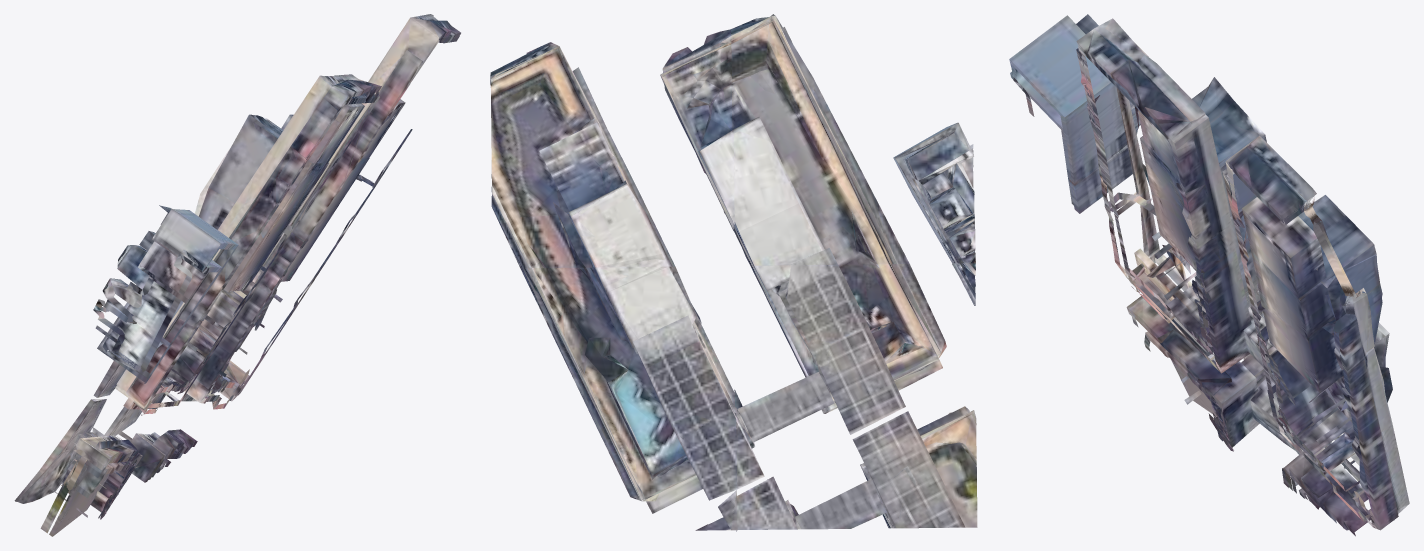
3 renders of one model, left to right at view 1: azimuth 30°, elevation 25°; view 2: azimuth 150°, elevation 25°; view 3: azimuth 270°, elevation 25°, orthographic. The views are drawn at different scales.
Size of the model in its own units: 76.94 by 70.07 by 47.64.
2 materials, 2 textured.
